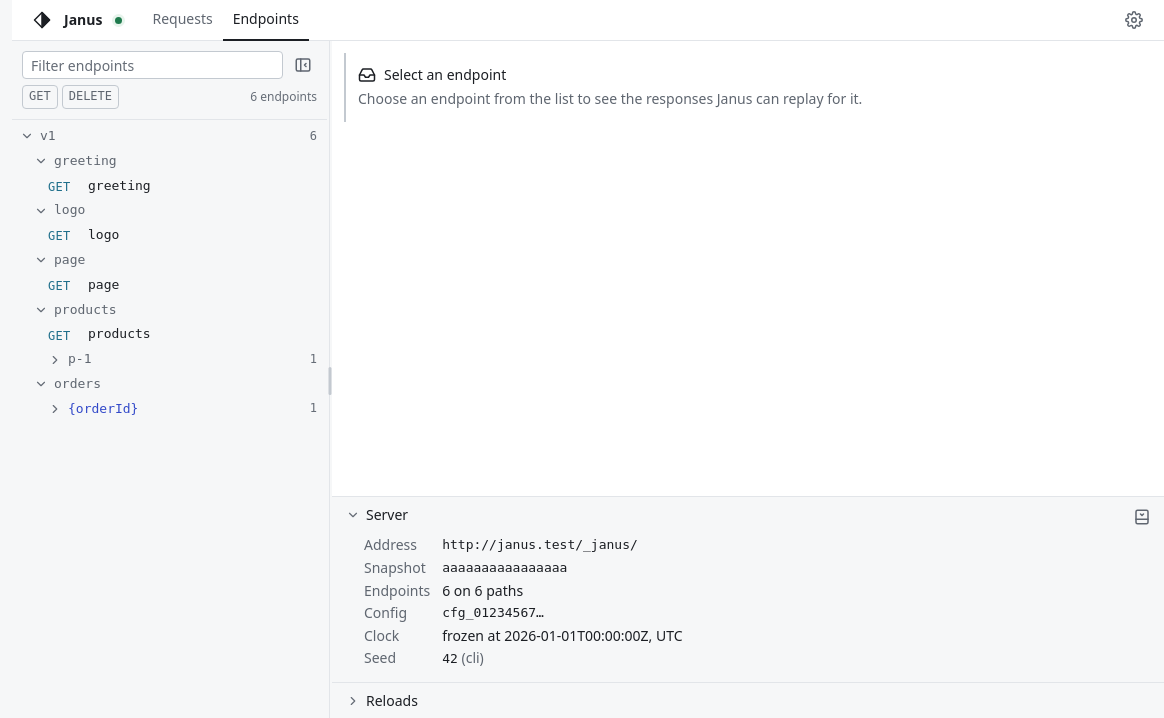
Test: fixture detail › shows no toggle for a response without dynamic values
What coordinates should you click on to do the following:
click the link with aria-label "GET /v1/greeting, scenario default"
I would click on:
 (99, 186)
Its box is left=48, top=178, right=151, bottom=194.
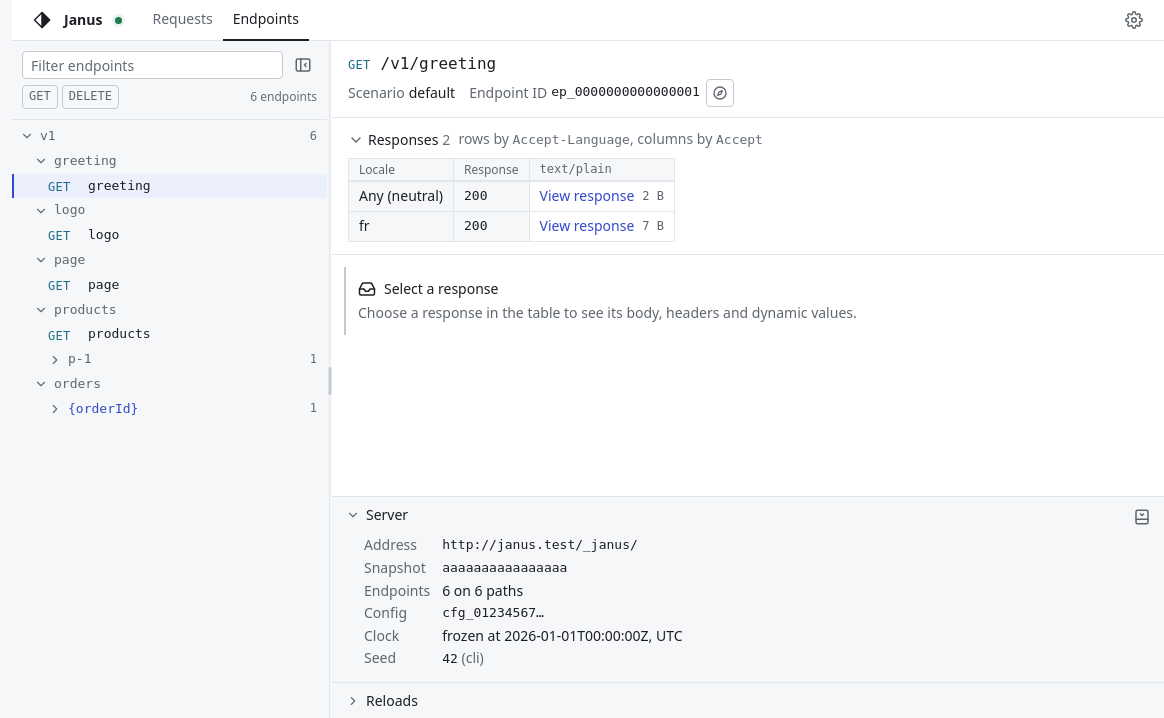
What coordinates should you click on to do the following:
click the link with aria-label "View response 200"
I would click on:
 (602, 197)
Its box is left=530, top=182, right=674, bottom=211.
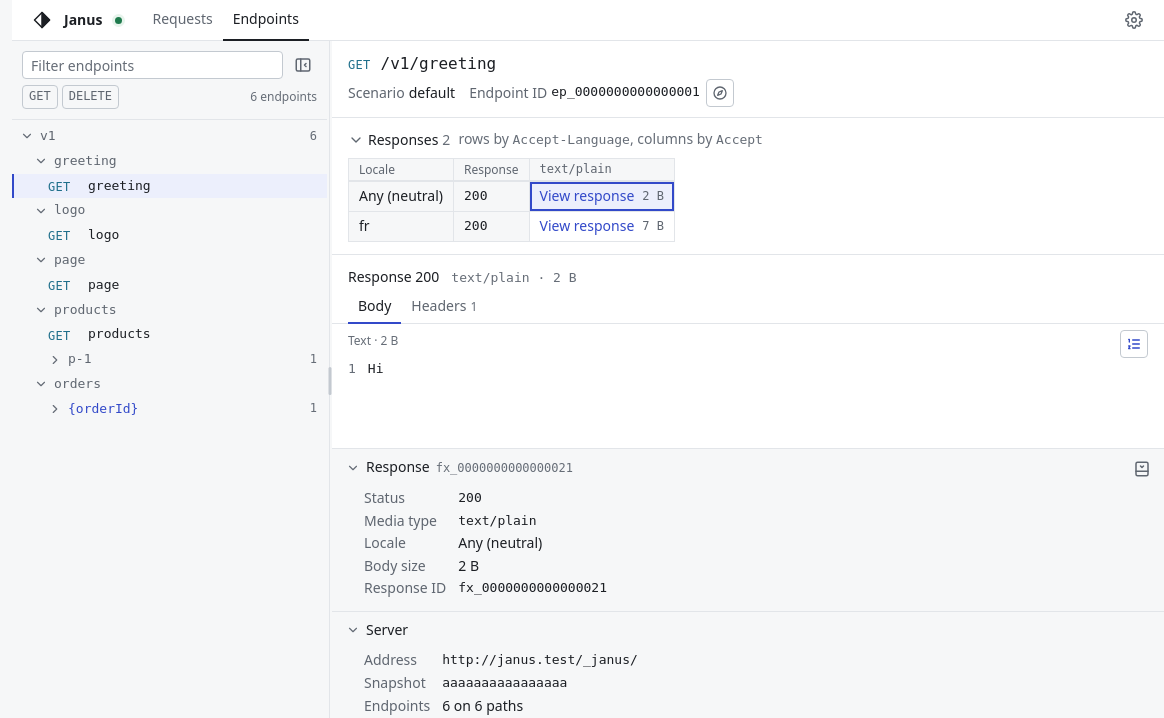
Now the element named "Body preview (text)" is shown, box left=332, top=349, right=1163, bottom=390
